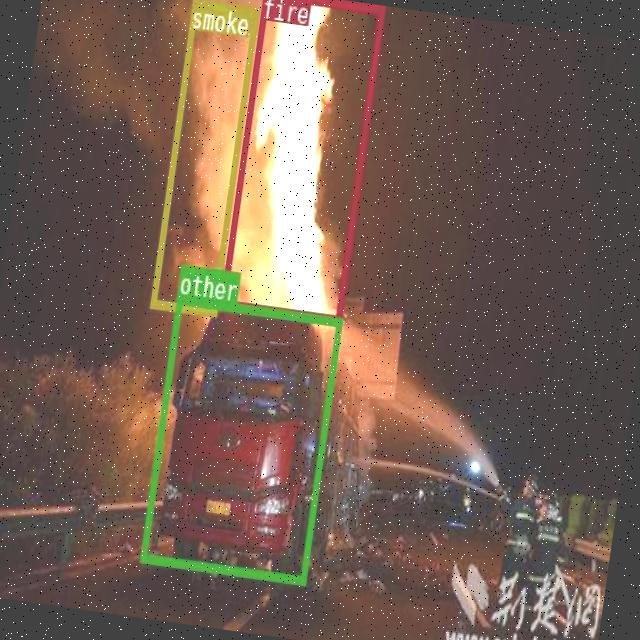fire: (219, 0, 384, 324)
smoke: (148, 0, 258, 315)
